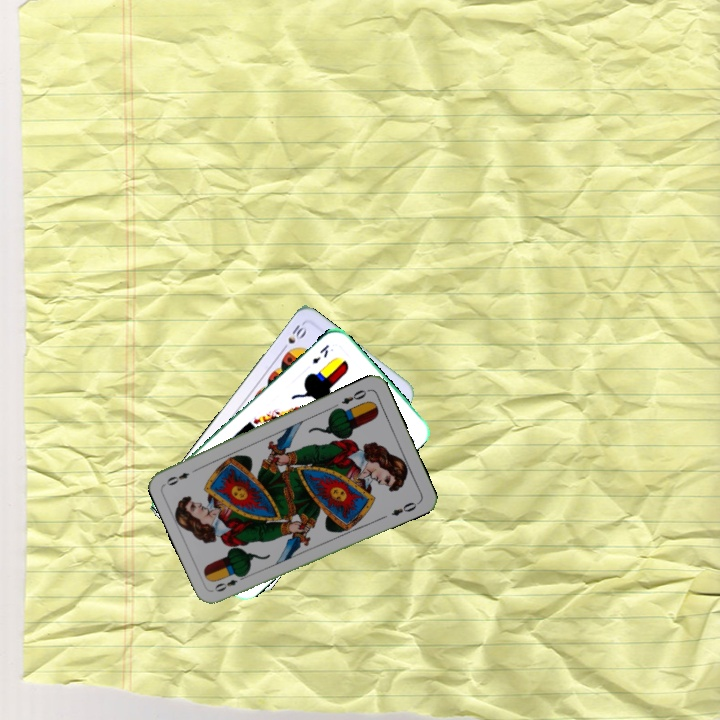EK: (308, 340, 332, 366)
EO: (211, 571, 249, 594), (338, 385, 372, 407)
S10: (277, 319, 309, 354)
